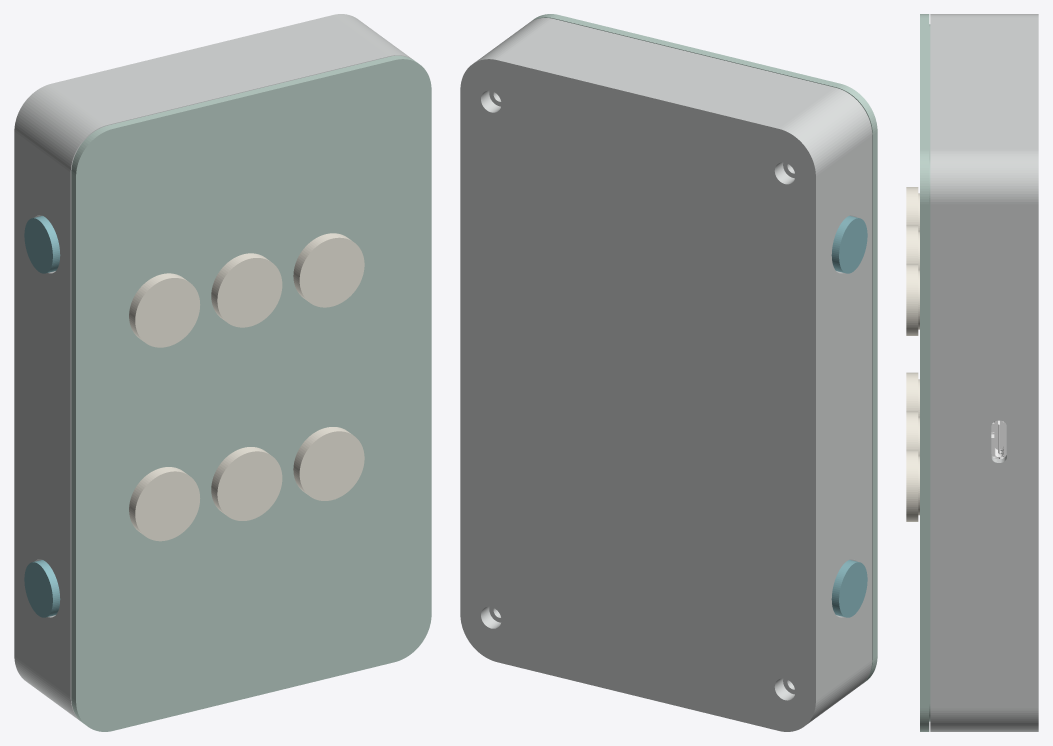
The model's file is assembly-S01.glb.
The picture shows the model from 3 angles, left to right: view 1: azimuth 30°, elevation 25°; view 2: azimuth 150°, elevation 25°; view 3: azimuth 270°, elevation 25°; orthographic projection. The views are drawn at different scales.
Parts seen in each view (by area): view 1: lid, base, cap_6, cap_5, cap_4, cap_2, cap_1, cap_3, side_cap_0, side_cap_1; view 2: base, lid, side_cap_0, side_cap_1; view 3: base, lid, cap_6, cap_3, cap_1, cap_5, cap_2, cap_4, STEP_part_672.
Boxes of the visible parts, x1,y1,x2,y2 form: lid: (71,55,431,731); base: (14,14,411,721); cap_6: (293,233,364,307); cap_5: (211,253,282,327); cap_4: (129,273,200,347); cap_2: (211,447,282,520); cap_1: (129,467,200,541); cap_3: (293,427,364,500); side_cap_0: (24,560,60,617); side_cap_1: (24,215,60,273); base: (460,18,872,731); lid: (532,14,877,683); side_cap_0: (831,560,867,617); side_cap_1: (831,215,867,273); base: (930,14,1038,731); lid: (920,14,930,731); cap_6: (906,264,919,335); cap_3: (906,450,919,521); cap_1: (906,372,919,417); cap_5: (906,225,919,270); cap_2: (906,411,919,456); cap_4: (906,187,919,231); STEP_part_672: (994,420,1003,457).
Size of the model in its own units: 0.0881 by 0.14 by 0.029.
